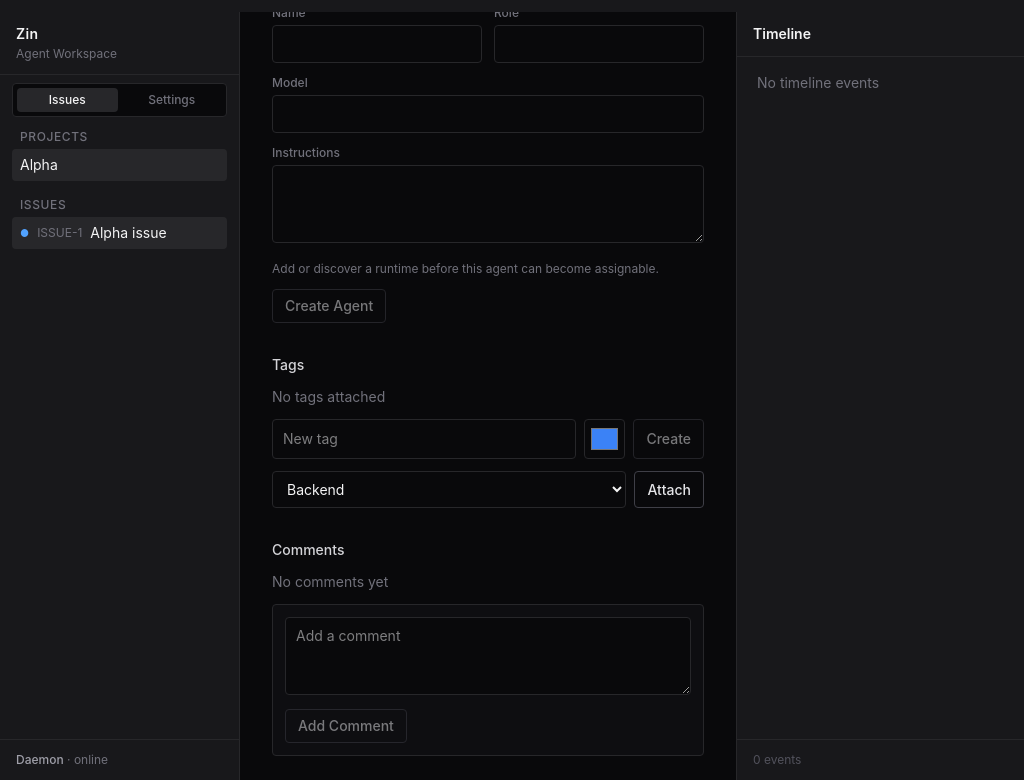
Test case: App › creates, attaches, and detaches tags with server reloads
(page scrolled)
Click the button "Attach": point(669, 490) [634,471,704,508]
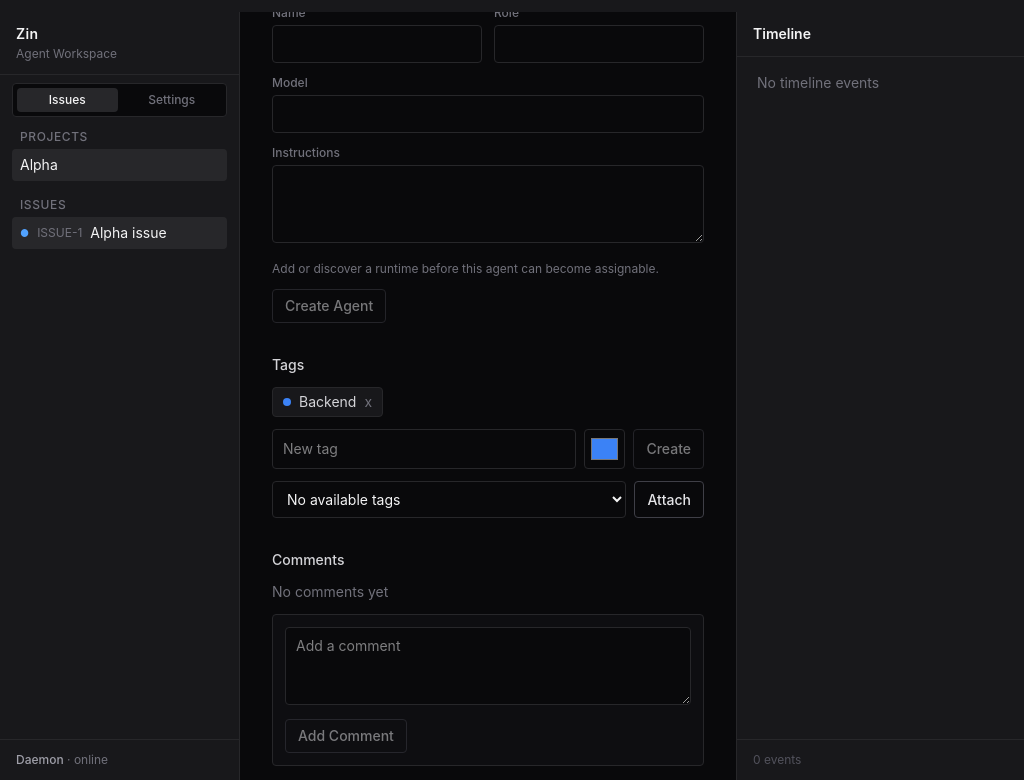
Expected: the button named "Detach Backend" is shown
Click the button named "Detach Backend": point(368, 402) [364,392,372,412]
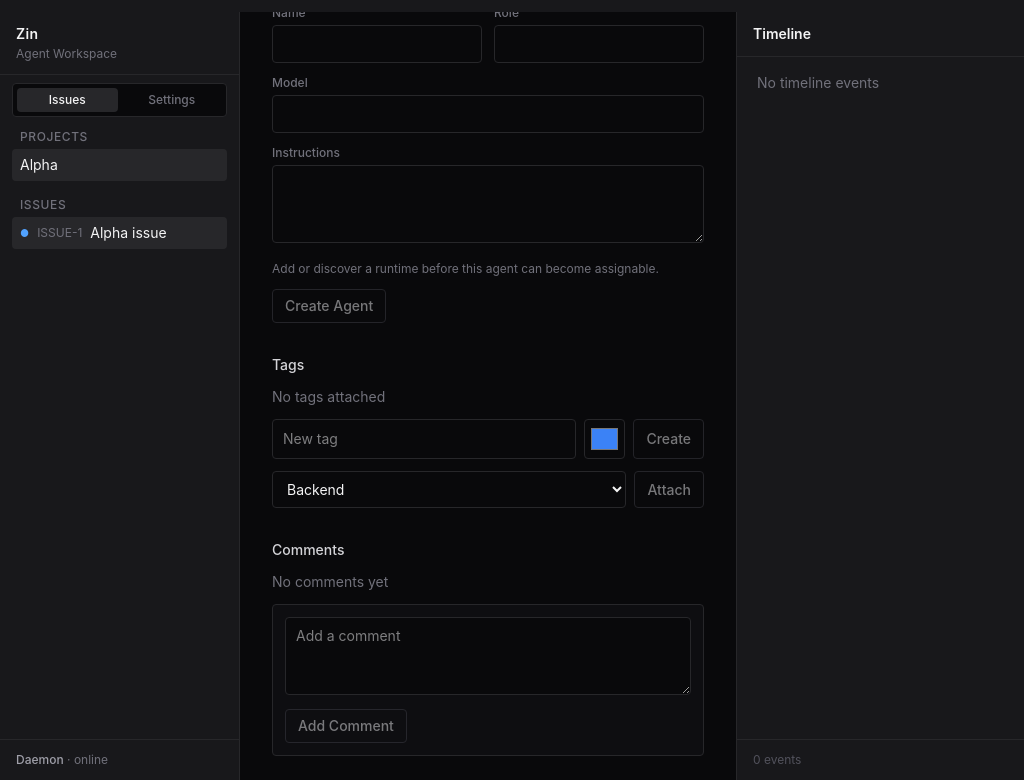
Expected: the text "No tags attached" is shown, [272,387,385,407]
In the field with placeholder "New tag": point(424, 439) [272,419,576,459], type "UI"
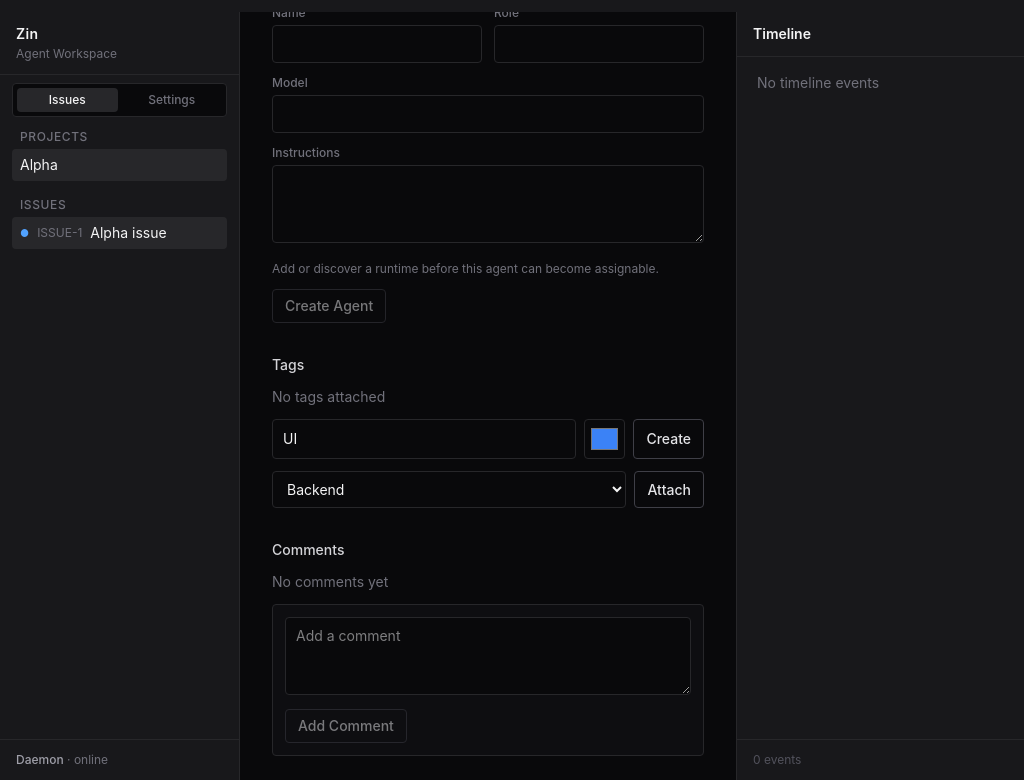
Click the button "Create": point(669, 439) [633,419,704,459]
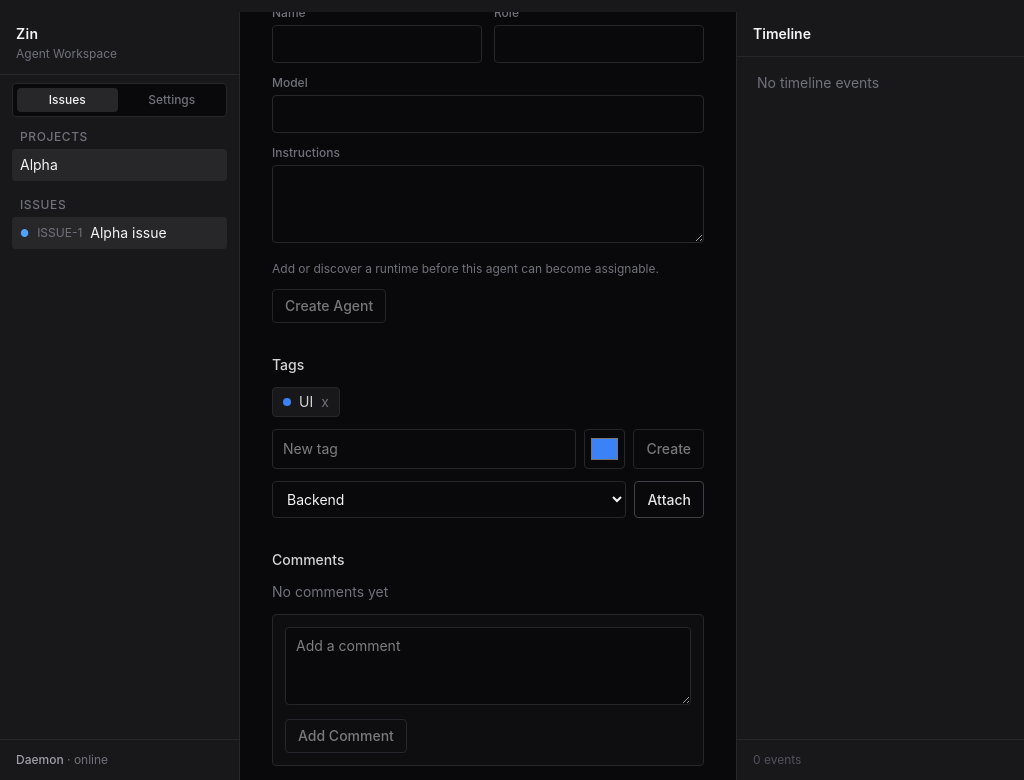
Expected: the text "UI" is shown, [299,393,313,410]
